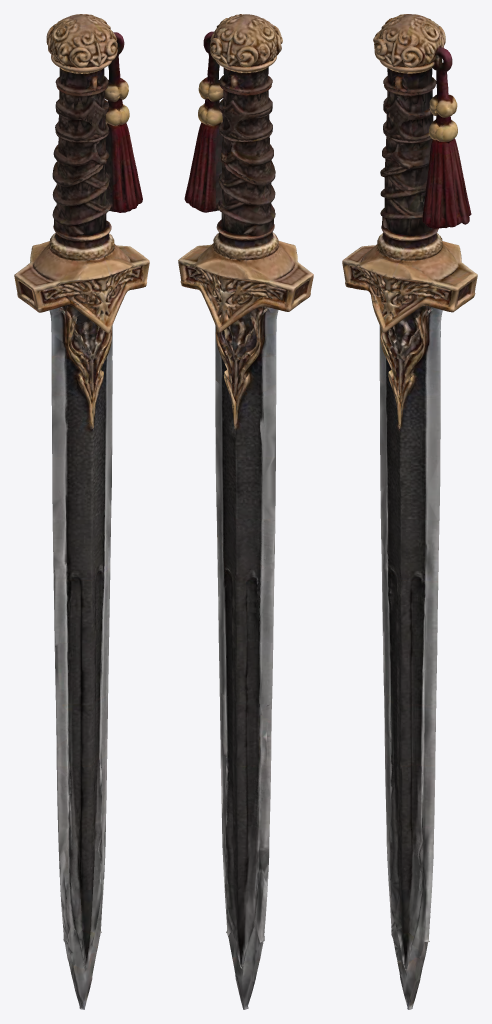
Rendered from sword_fire.glb.
The picture shows the model from 3 angles, left to right: view 1: azimuth 30°, elevation 25°; view 2: azimuth 150°, elevation 25°; view 3: azimuth 330°, elevation 25°; orthographic projection.
Parts seen in each view (by area): view 1: tripo_node_c5dbc7c3-9f6e-459d-a344-885cce4d7799; view 2: tripo_node_c5dbc7c3-9f6e-459d-a344-885cce4d7799; view 3: tripo_node_c5dbc7c3-9f6e-459d-a344-885cce4d7799.
Boxes of the visible parts, <box> form: tripo_node_c5dbc7c3-9f6e-459d-a344-885cce4d7799: <box>14,14,149,1009</box>; tripo_node_c5dbc7c3-9f6e-459d-a344-885cce4d7799: <box>178,14,313,1009</box>; tripo_node_c5dbc7c3-9f6e-459d-a344-885cce4d7799: <box>342,14,477,1009</box>.
Bounding box in the file's own units: 1.25 × 10.15 × 0.9998.
Materials: 1 (1 with a texture image).
